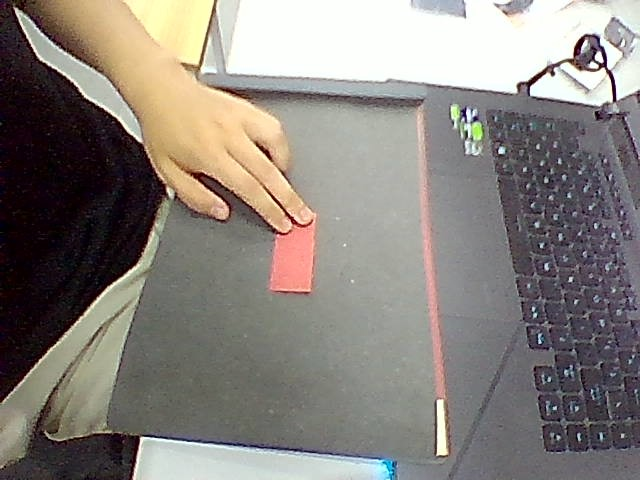card: (269, 218, 314, 293)
